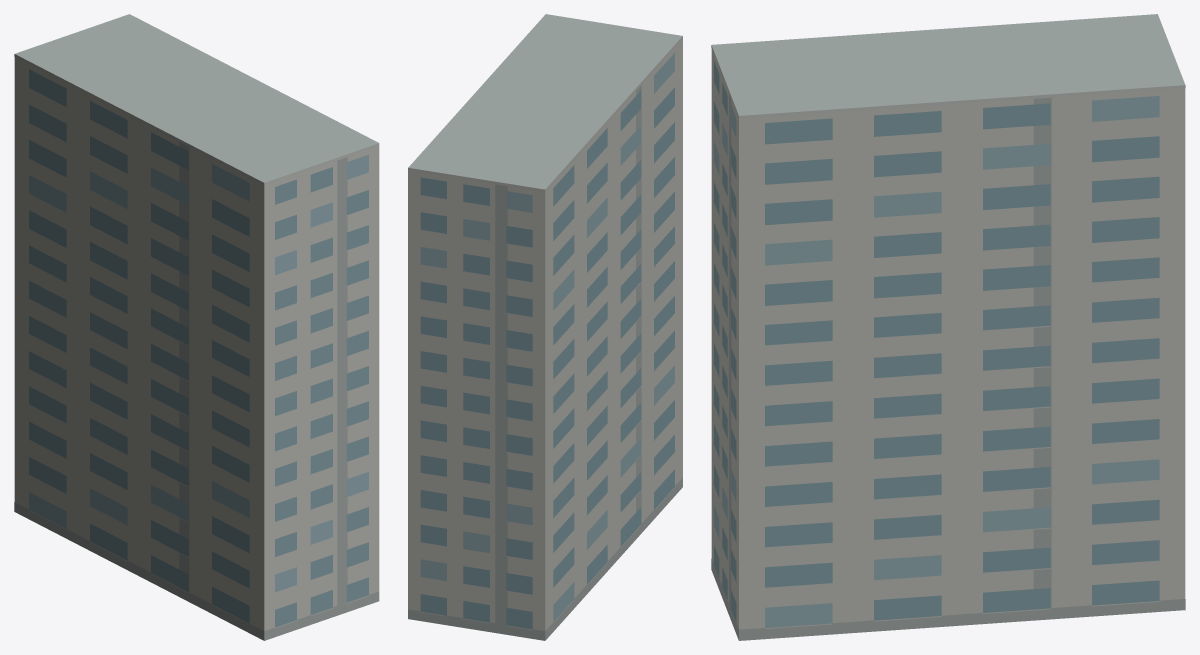
The model's file is residential-2ffce835-6a98-4060-8249-1ef604eeeffa.glb.
The picture shows the model from 3 angles, left to right: view 1: azimuth 30°, elevation 25°; view 2: azimuth 150°, elevation 25°; view 3: azimuth 270°, elevation 25°; orthographic projection. The views are drawn at different scales.
Visible parts, largest first — view 1: residential-2ffce835-6a98-4060-8249-1ef604eeeffa.tmp; view 2: residential-2ffce835-6a98-4060-8249-1ef604eeeffa.tmp; view 3: residential-2ffce835-6a98-4060-8249-1ef604eeeffa.tmp.
Boxes of the visible parts, x1,y1,x2,y2 form: residential-2ffce835-6a98-4060-8249-1ef604eeeffa.tmp: (14, 14, 379, 640); residential-2ffce835-6a98-4060-8249-1ef604eeeffa.tmp: (408, 14, 682, 640); residential-2ffce835-6a98-4060-8249-1ef604eeeffa.tmp: (711, 14, 1185, 640).
Size of the model in its own units: 15.83 by 38 by 31.1.
